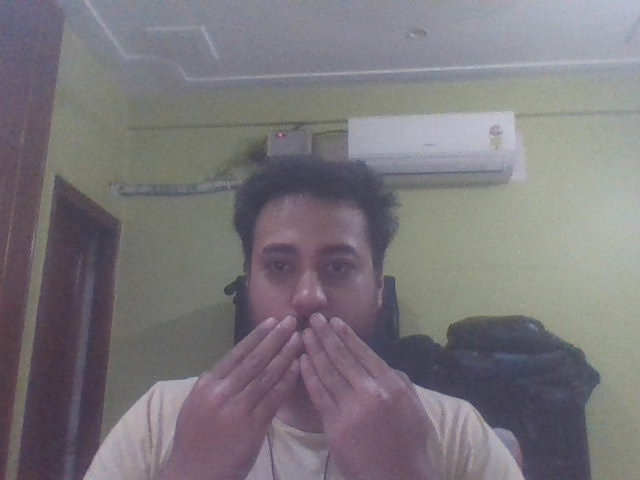Thanks: (127, 298, 478, 480)
